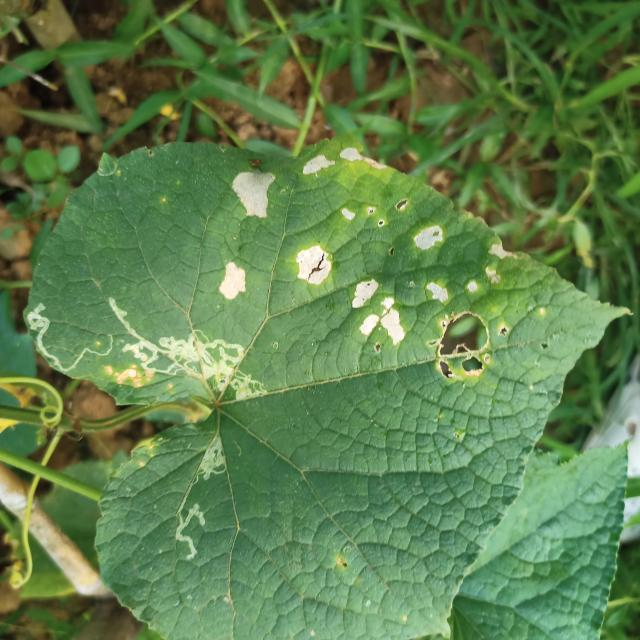disease_cucumber: (291, 141, 511, 403), (216, 167, 276, 306)
